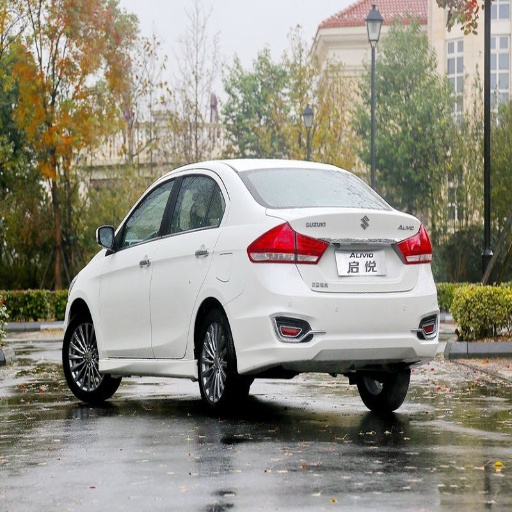back_bumper: (230, 264, 438, 369)
back_glass: (239, 167, 385, 207)
back_left_door: (152, 170, 226, 359)
tailgate: (290, 206, 419, 291)
